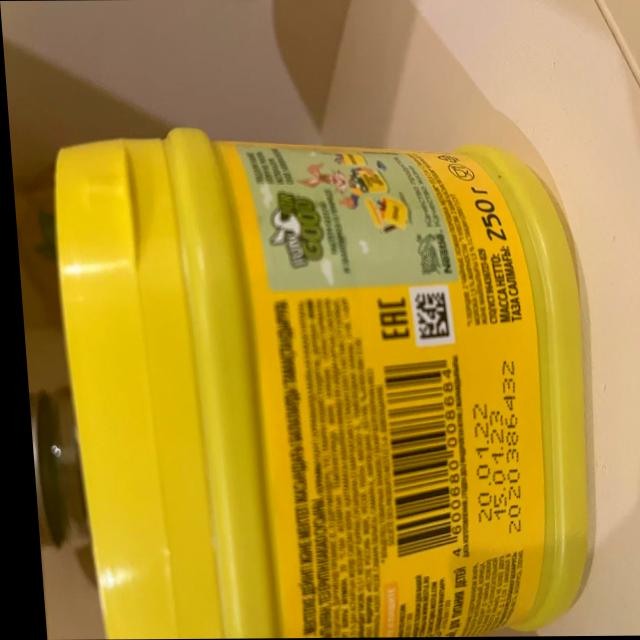datamatrix: (408, 290, 446, 340)
